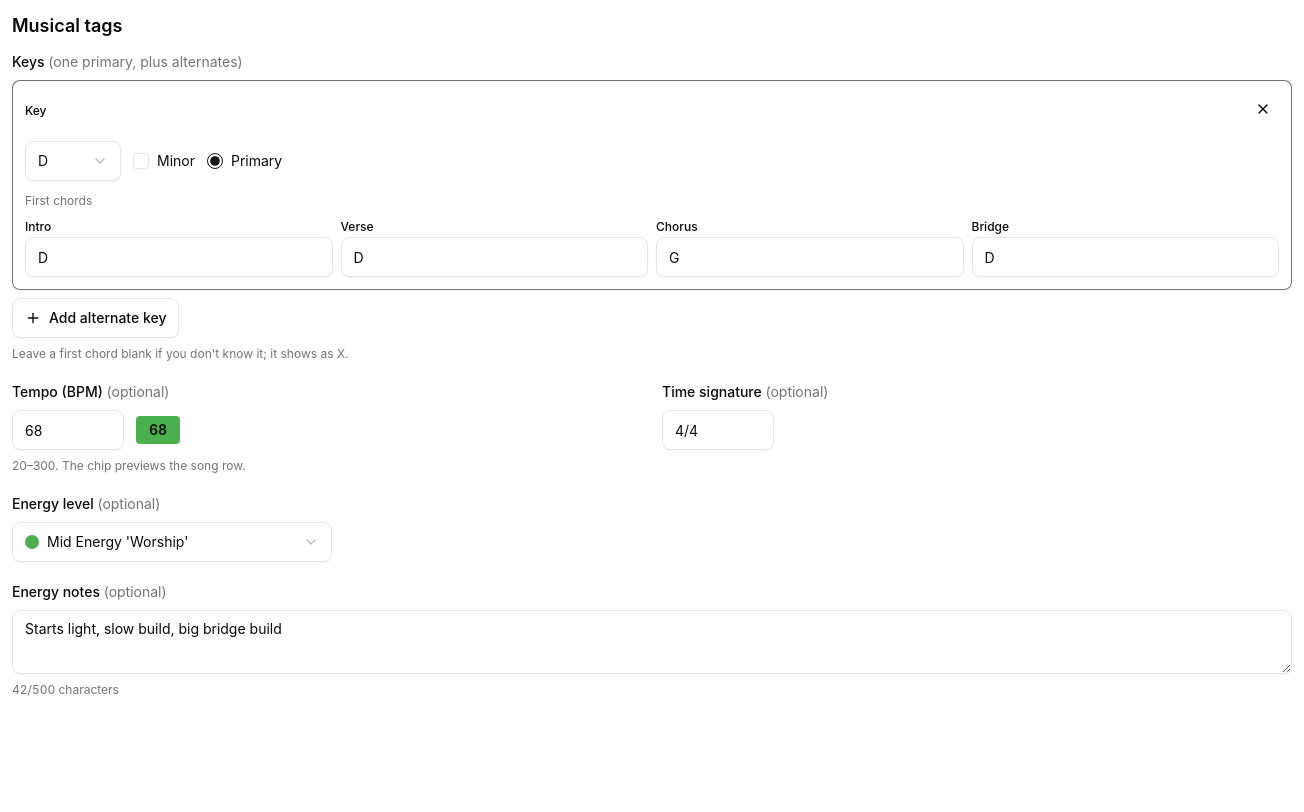
MusicalSection › removing the last key returns to the empty state
What coordinates should you click on to do the following:
click the button named "Remove key D"
I would click on:
 (1263, 109)
Its box is 1243,89 -> 1283,129.
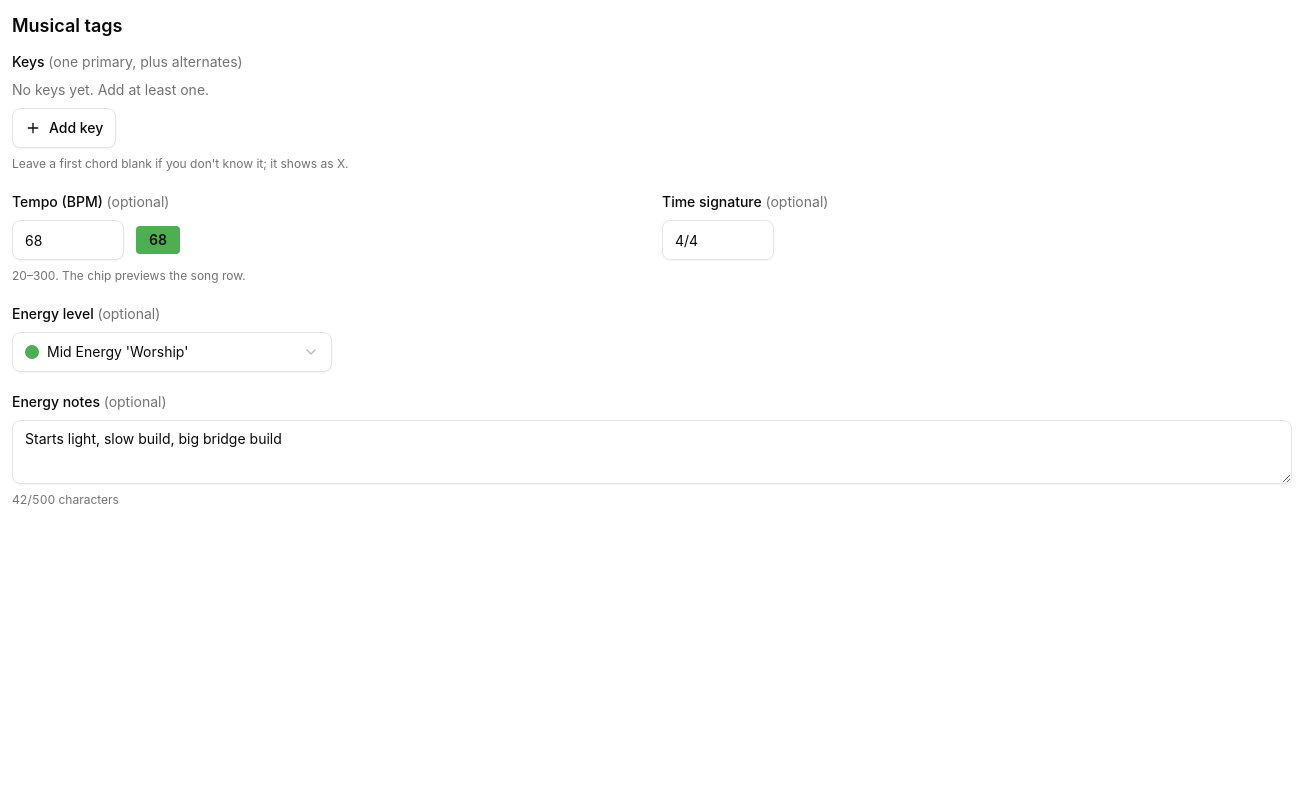
Expected: the text "No keys yet. Add at least one." is shown, 12,81 -> 209,98
